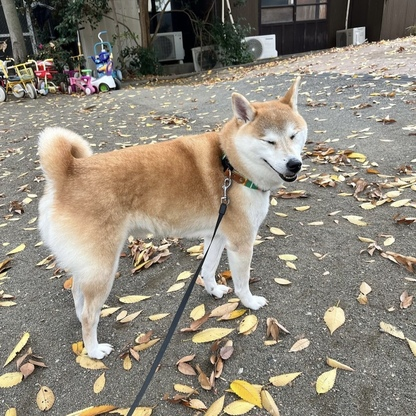shiba: (26, 72, 314, 365)
